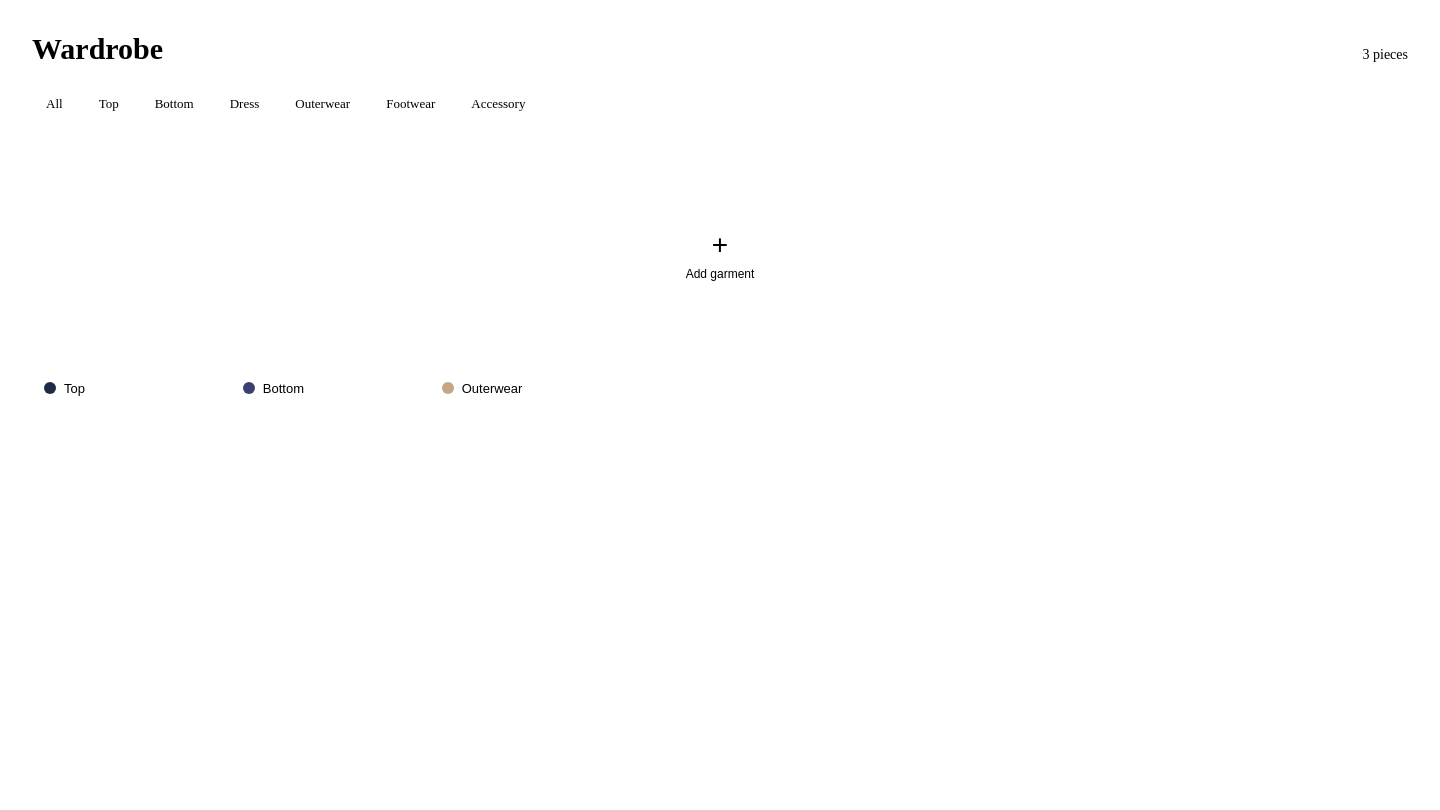
Scenario: WardrobePage › clicking AddTile opens the upload modal
Click the button labelled "+ Add garment". click: (720, 256)
box: [629, 142, 812, 371]
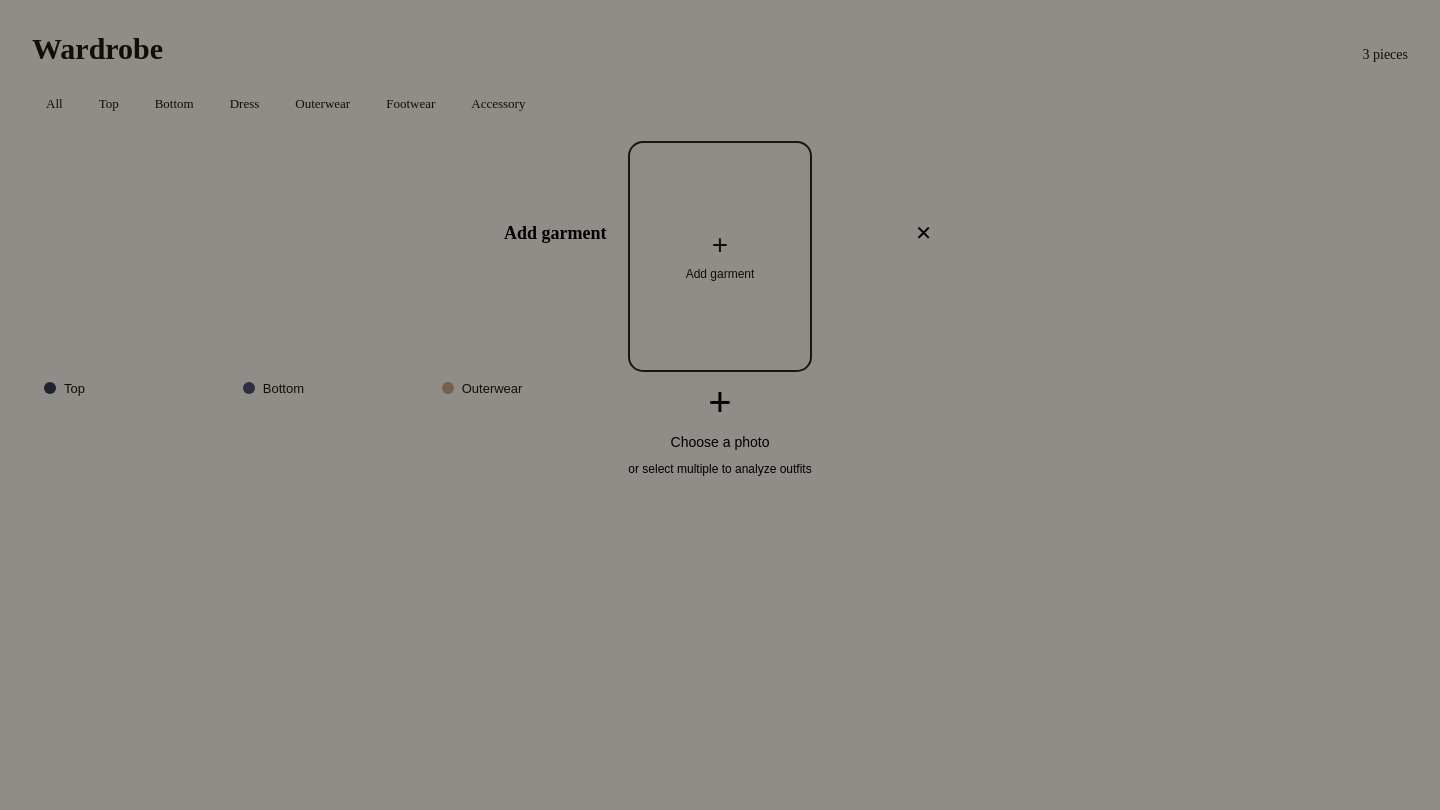
Result: the heading "Add garment" is shown at [504, 222, 606, 244]
